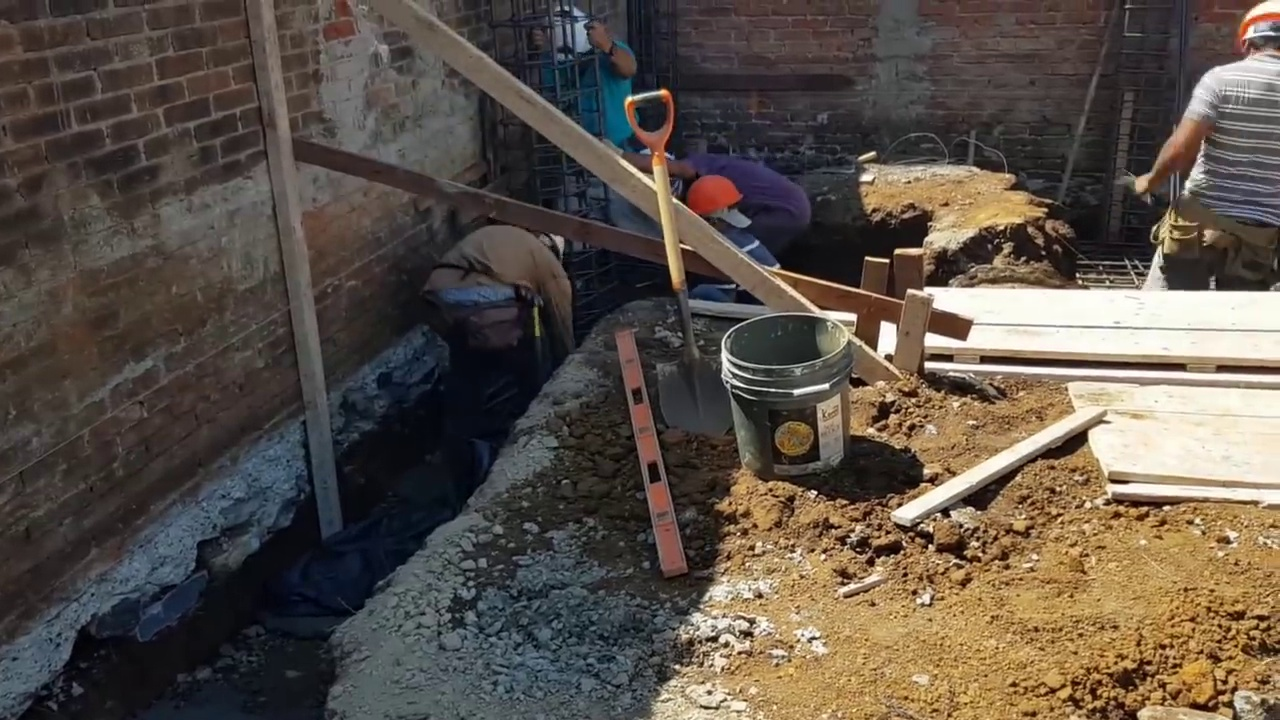helmet: (688, 174, 743, 215), (1232, 6, 1280, 49)
helmet-off: (547, 7, 594, 65)
helmet-on: (684, 174, 750, 239), (1231, 2, 1280, 65), (524, 230, 568, 261)
person: (1124, 4, 1280, 295), (531, 7, 640, 219), (425, 230, 577, 352), (681, 172, 778, 305), (682, 148, 814, 245)
